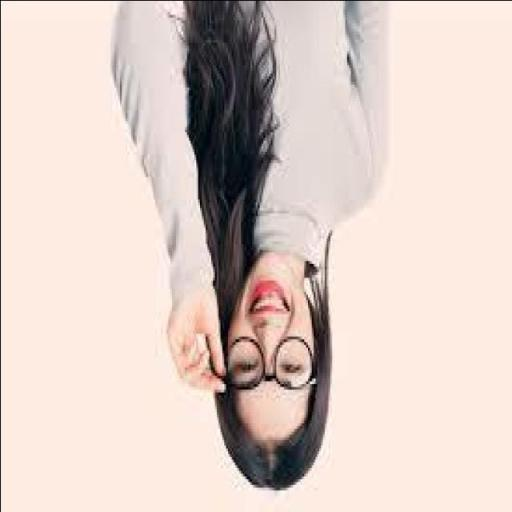glasses: (208, 320, 326, 418)
